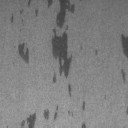red iron: (11, 0, 76, 96), (20, 105, 59, 128), (120, 34, 128, 85), (18, 42, 30, 64), (82, 100, 86, 110), (94, 50, 98, 56), (82, 122, 86, 128), (126, 106, 128, 115)
